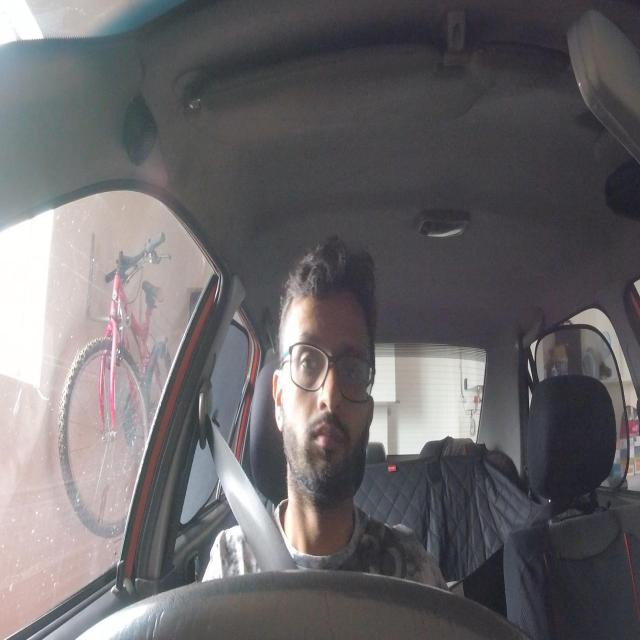open: (293, 329, 326, 386)
